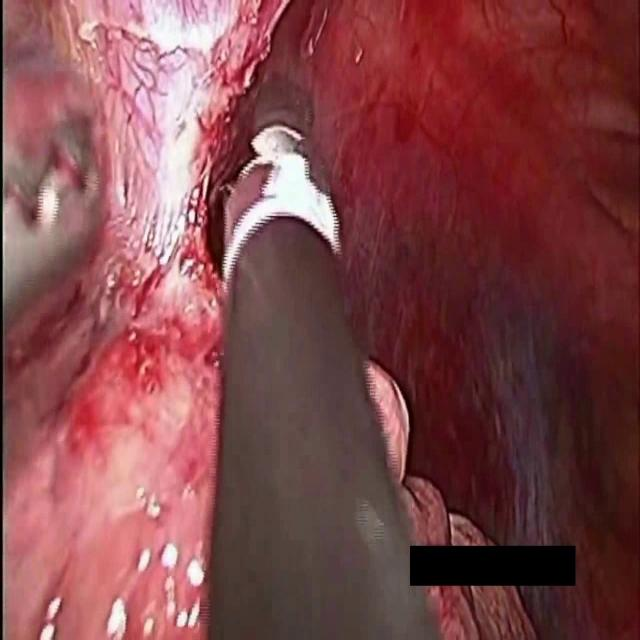surgical-area: (300, 0, 640, 639)
surgical-tool: (208, 6, 452, 639), (0, 66, 112, 410)
